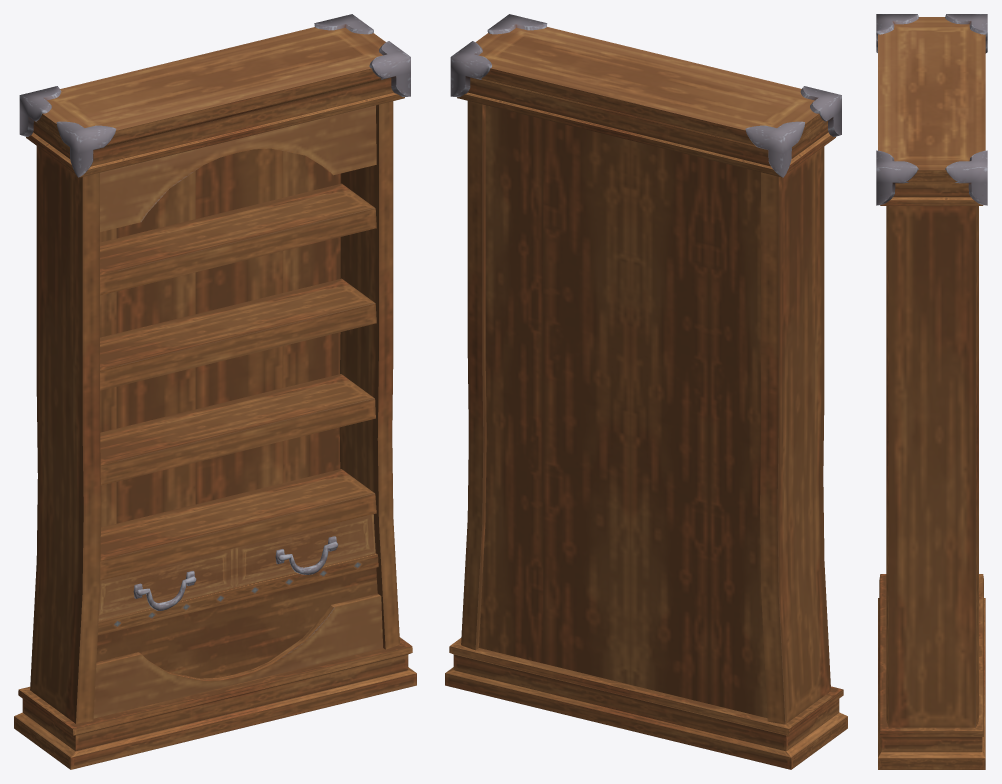
Rendered from bookcase_2.glb.
The picture shows the model from 3 angles, left to right: view 1: azimuth 30°, elevation 25°; view 2: azimuth 150°, elevation 25°; view 3: azimuth 270°, elevation 25°; orthographic projection. The views are drawn at different scales.
Visible parts, largest first — view 1: Bookcase_2; view 2: Bookcase_2; view 3: Bookcase_2.
Boxes of the visible parts, x1,y1,x2,y2 form: Bookcase_2: (14,14,416,769); Bookcase_2: (445,14,847,769); Bookcase_2: (876,14,987,769).
Size of the model in its own units: 1.46 by 2.54 by 0.429.
2 materials, 2 textured.
